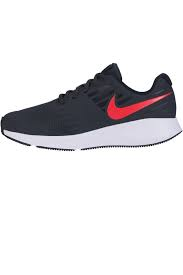nike: (104, 90, 174, 122)
